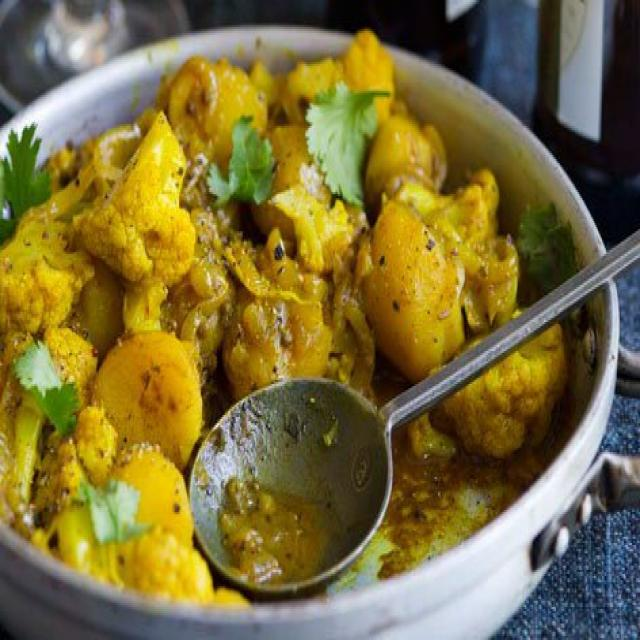Aloo Gobi: (44, 80, 458, 370)
